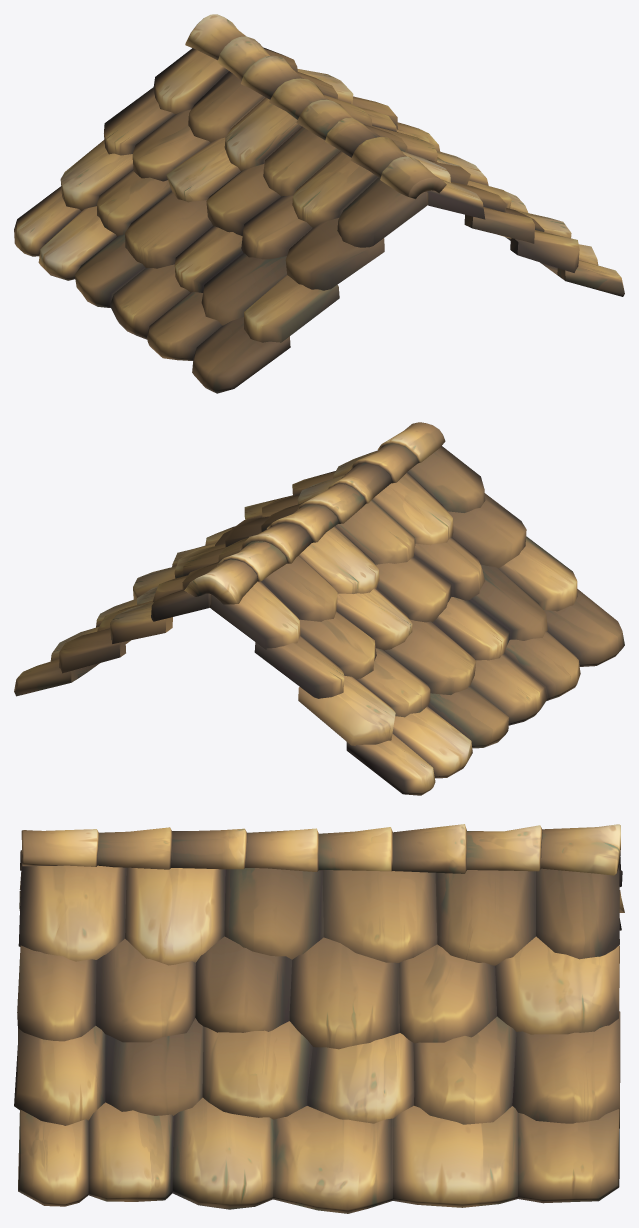
Rendered from SM_MOD_roof_cap_open_bricks_town.fbx.
3 renders of one model, top to bottom at view 1: azimuth 30°, elevation 25°; view 2: azimuth 150°, elevation 25°; view 3: azimuth 270°, elevation 25°, orthographic. The views are drawn at different scales.
Visible parts, largest first — view 1: SM_MOD_roof_cap_open_bricks_town_LOD0; view 2: SM_MOD_roof_cap_open_bricks_town_LOD0; view 3: SM_MOD_roof_cap_open_bricks_town_LOD0.
Boxes of the visible parts, left/top/right/bottom form: SM_MOD_roof_cap_open_bricks_town_LOD0: left=14, top=14, right=624, bottom=393; SM_MOD_roof_cap_open_bricks_town_LOD0: left=14, top=422, right=624, bottom=795; SM_MOD_roof_cap_open_bricks_town_LOD0: left=14, top=824, right=624, bottom=1213.
Size of what is drawn, in the model's own units: 453 by 185 by 411.
